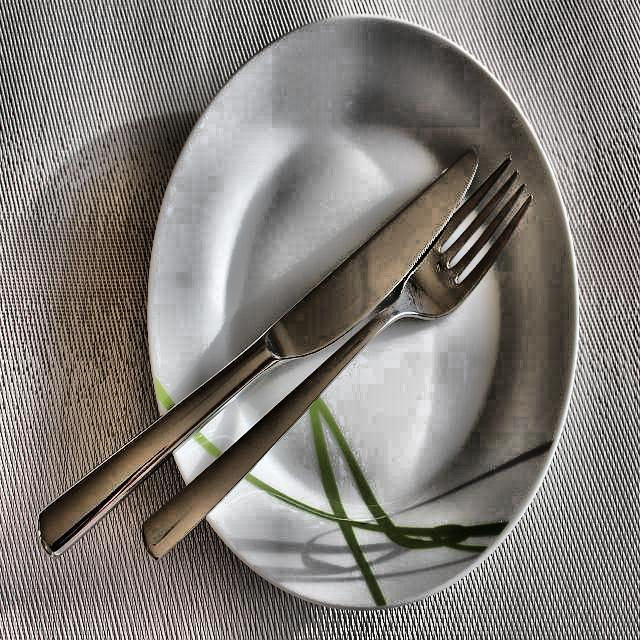knife: (33, 135, 485, 564)
